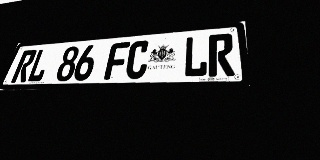6: (72, 44, 99, 81)
8: (54, 46, 81, 81)
C: (124, 40, 150, 79)
F: (104, 42, 130, 80)
L: (183, 35, 208, 77), (26, 48, 53, 82)
R: (208, 33, 235, 77), (10, 49, 38, 83)
